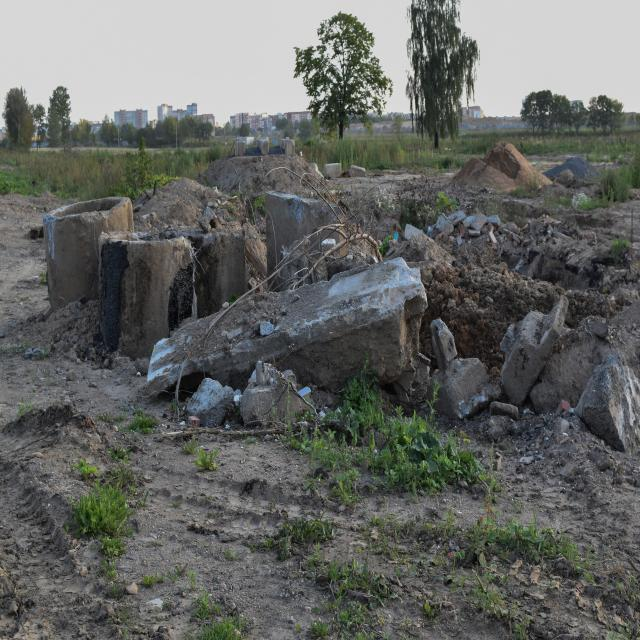entulho: (147, 258, 426, 406), (101, 230, 196, 360), (44, 196, 136, 310), (497, 302, 570, 401), (573, 346, 640, 453), (429, 320, 488, 416), (240, 363, 306, 429), (426, 202, 504, 248), (499, 217, 564, 259), (182, 378, 230, 423)
restos de madeira: (287, 214, 388, 282)
terra: (454, 141, 548, 194), (133, 177, 221, 232), (204, 154, 319, 196), (544, 155, 602, 184)
